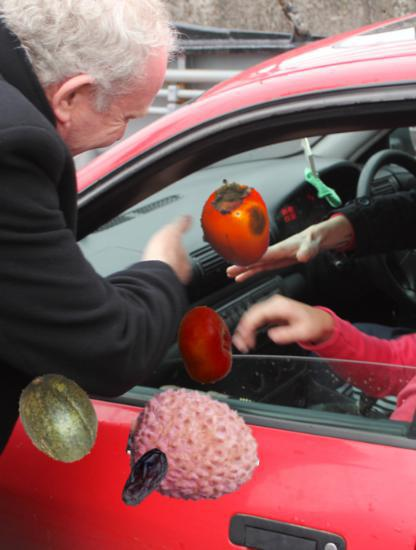Dates: (113, 447, 177, 511)
Kaki: (189, 178, 281, 270)
Lychee: (128, 380, 261, 513)
Melon: (14, 370, 108, 464)
Nectarine: (166, 306, 245, 385)
